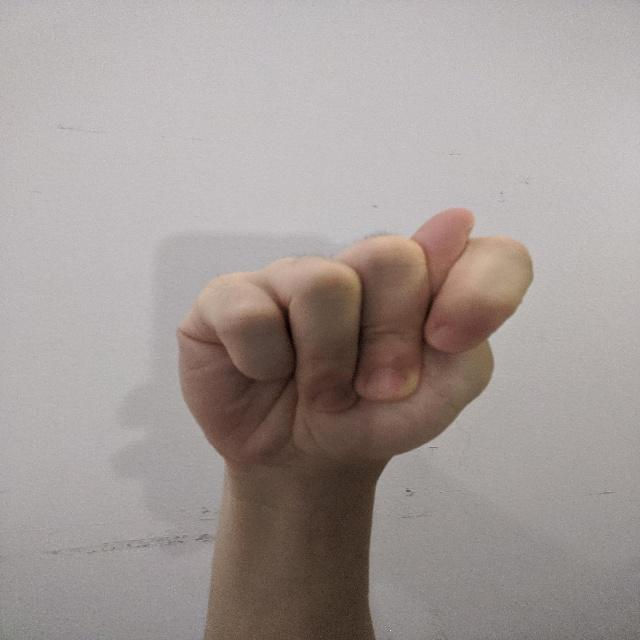T: (165, 202, 541, 483)
